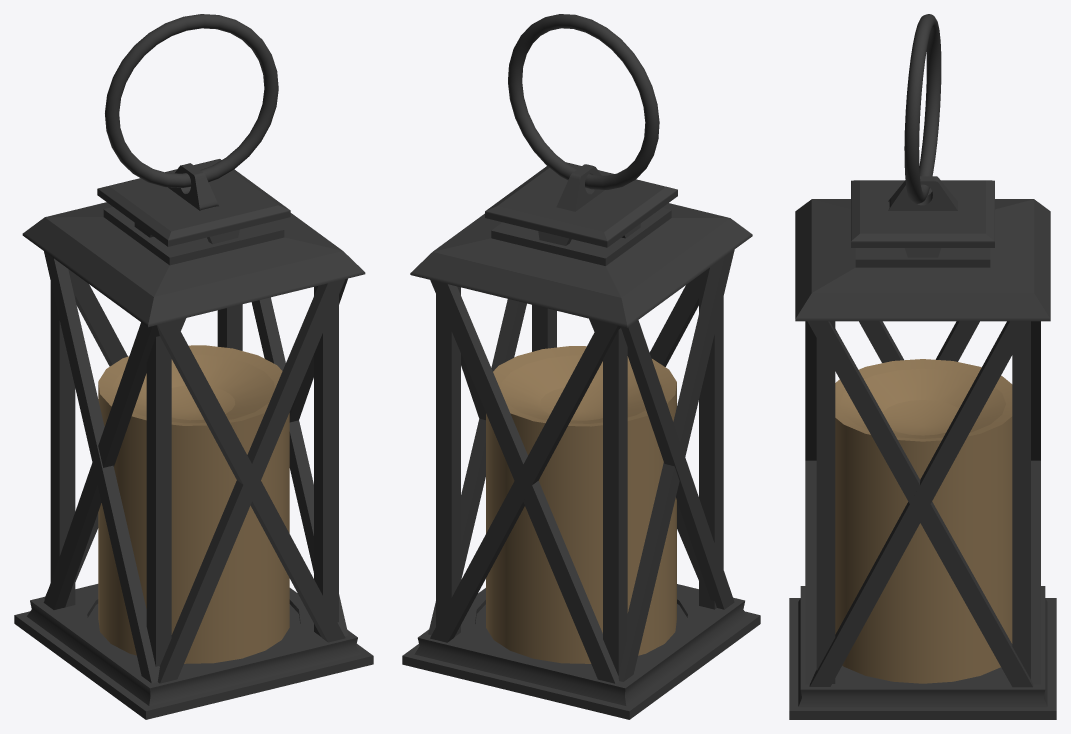
Rendered from lanterneplafond.fbx.
3 renders of one model, left to right at view 1: azimuth 30°, elevation 25°; view 2: azimuth 150°, elevation 25°; view 3: azimuth 270°, elevation 25°, orthographic.
Parts seen in each view (by area): view 1: polySurface13; view 2: polySurface13; view 3: polySurface13.
Part boxes in pixels (left/top/right/bottom): polySurface13: left=14, top=14, right=373, bottom=719; polySurface13: left=402, top=14, right=760, bottom=719; polySurface13: left=789, top=14, right=1056, bottom=719.
Size of the model in its own units: 9.11 by 24.04 by 9.11.
